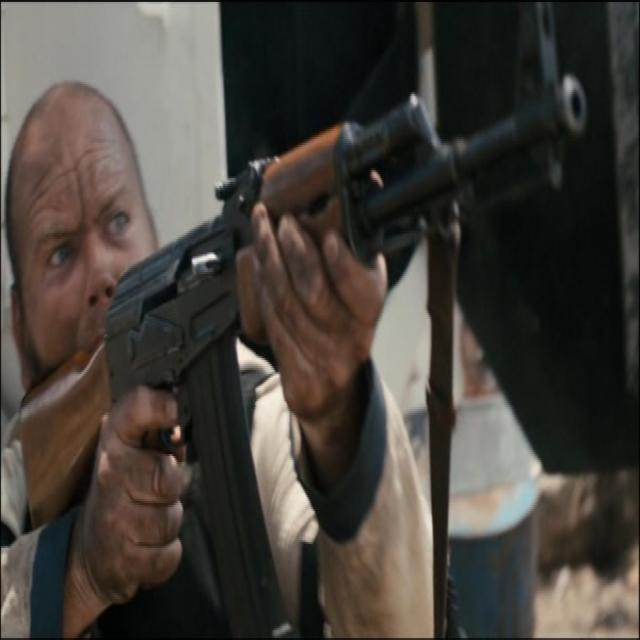weapon: (18, 57, 595, 625)
